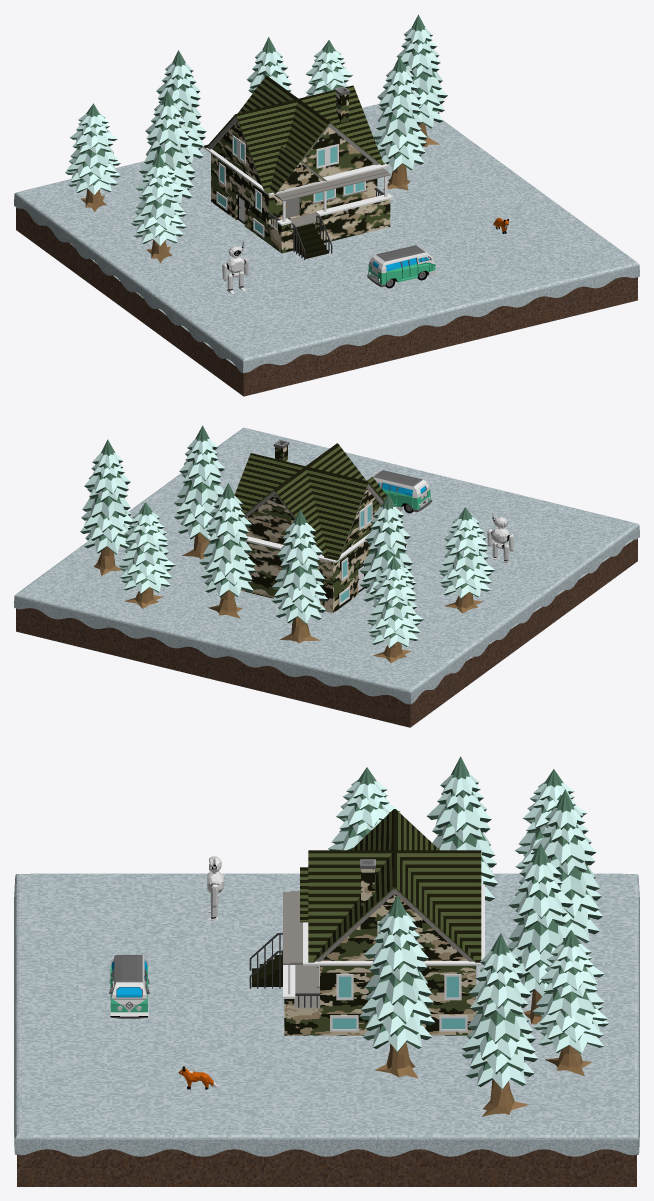
The picture shows the model from 3 angles, top to bottom: view 1: azimuth 30°, elevation 25°; view 2: azimuth 150°, elevation 25°; view 3: azimuth 270°, elevation 25°; orthographic projection. The views are drawn at different scales.
Parts seen in each view (by area): view 1: Cube.003, Cube.002, VEHICLES_VAN, OBJRANDOM_PLATZEEBOT; view 2: Cube.003, Cube.002, VEHICLES_VAN, OBJRANDOM_PLATZEEBOT; view 3: Cube.003, Cube.002, VEHICLES_VAN, OBJRANDOM_PLATZEEBOT.
Boxes of the visible parts, x1,y1,x2,y2 form: Cube.003: (14,14,639,396); Cube.002: (202,76,393,259); VEHICLES_VAN: (367,245,436,288); OBJRANDOM_PLATZEEBOT: (222,241,248,293); Cube.003: (14,425,639,727); Cube.002: (234,440,405,612); VEHICLES_VAN: (373,470,431,513); OBJRANDOM_PLATZEEBOT: (487,512,513,563); Cube.003: (14,756,639,1186); Cube.002: (249,809,484,1035); VEHICLES_VAN: (109,955,149,1018); OBJRANDOM_PLATZEEBOT: (205,856,224,920).
Size of the model in its own units: 4040 by 1670 by 4040.
35 materials, 5 textured.
